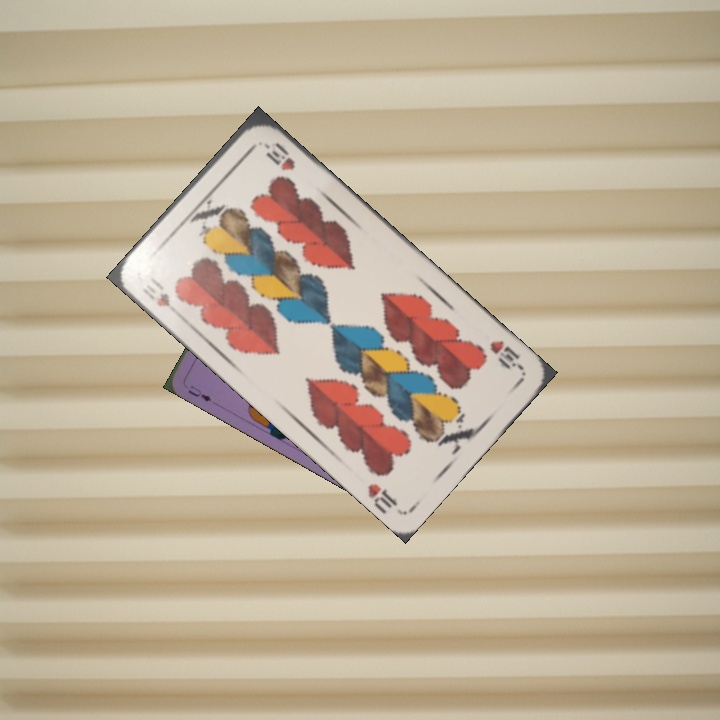EU: (184, 381, 214, 404)
H10: (485, 336, 526, 373), (138, 273, 173, 310)
